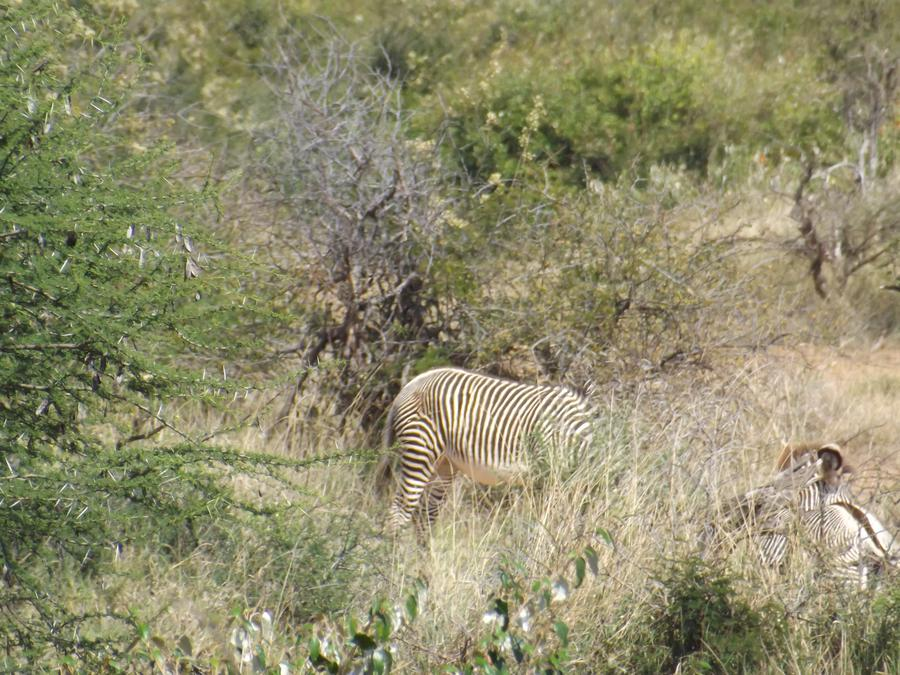zebra_grevys: (390, 344, 577, 483)
